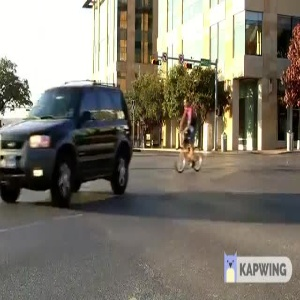suv: (1, 76, 138, 215)
